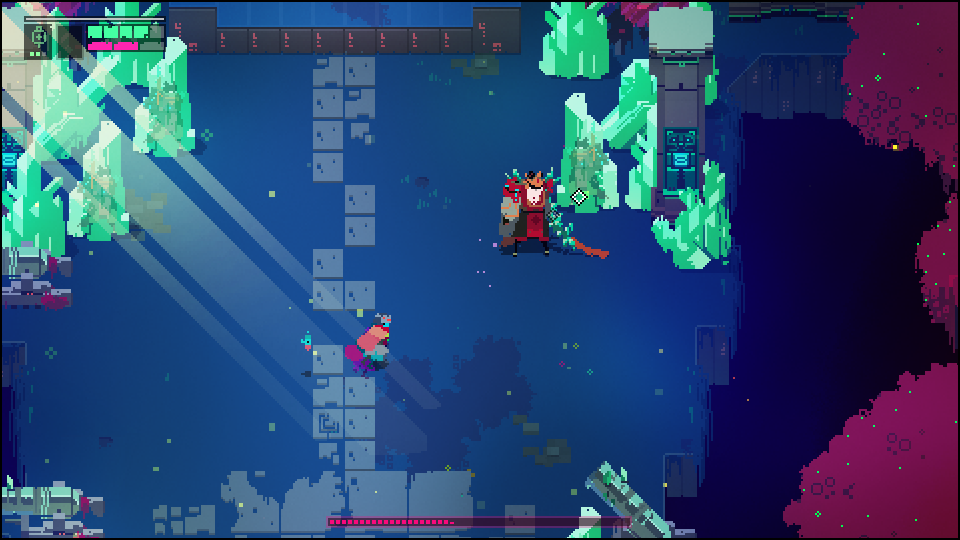hanged_man: (490, 165, 581, 257)
player: (353, 308, 397, 369)
